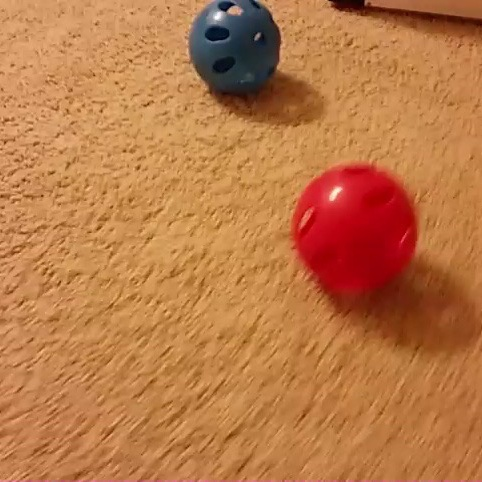ball: (286, 159, 424, 299), (183, 0, 288, 99)
